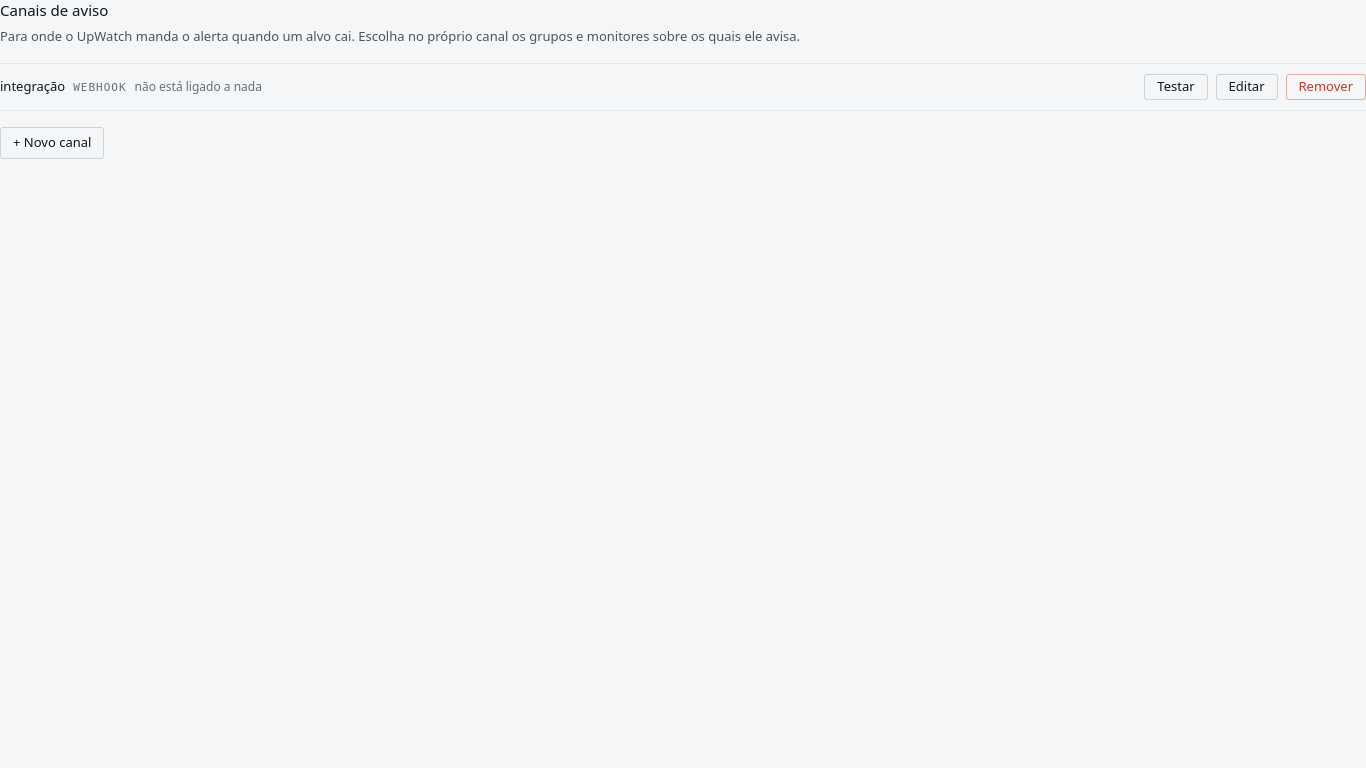
Test case: Channels › edita pelo botão da lista e recarrega, sem remover o canal
Step 1. Click the button "Editar" → (1247, 86), box 1216,74 -> 1278,100
(page scrolled)
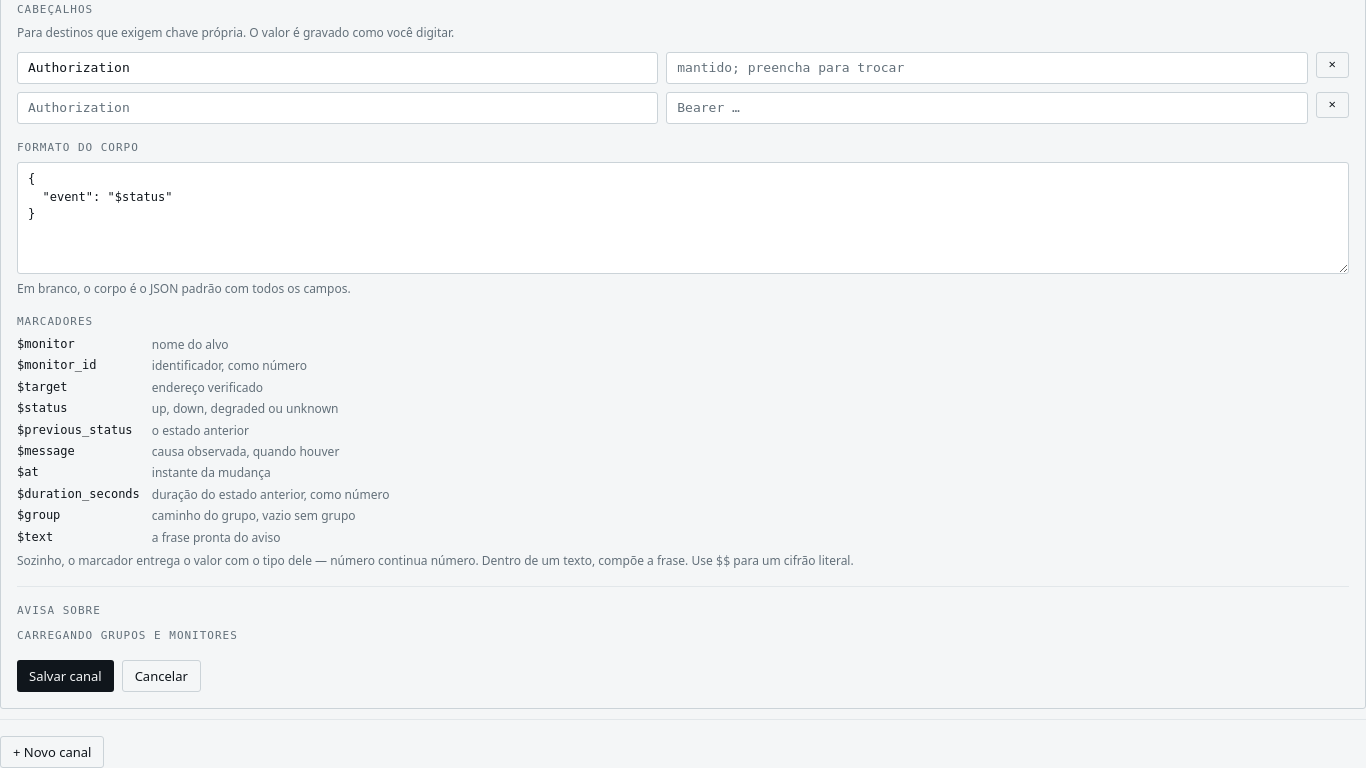
Step 2. Click the button "Salvar canal" → (65, 676), box 17,660 -> 114,692
(page scrolled)
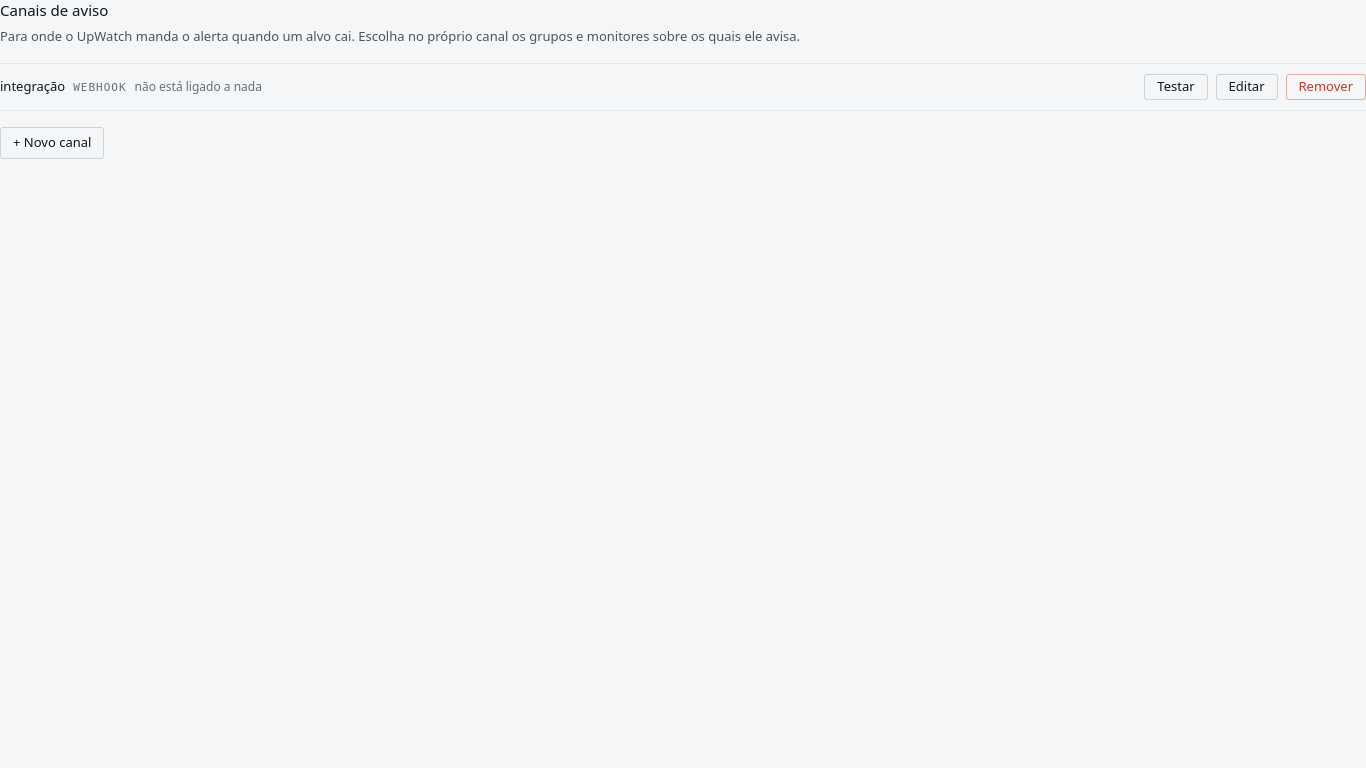
Expected: the button "Salvar canal" is gone
